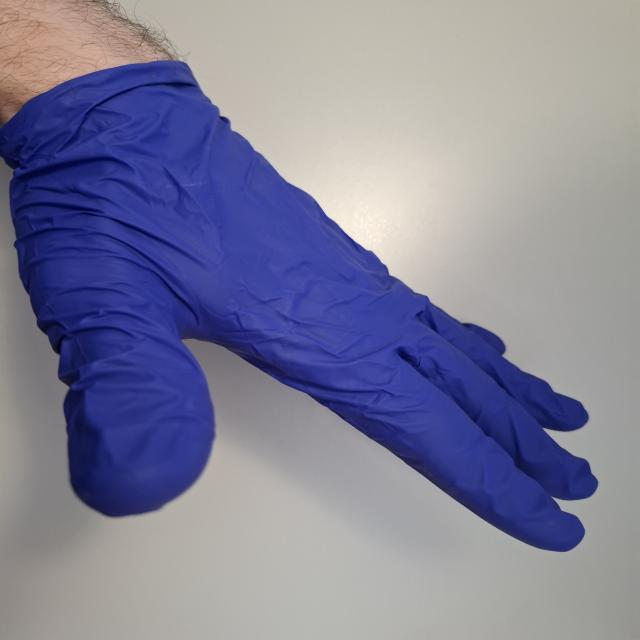glove_on: (0, 53, 603, 558)
